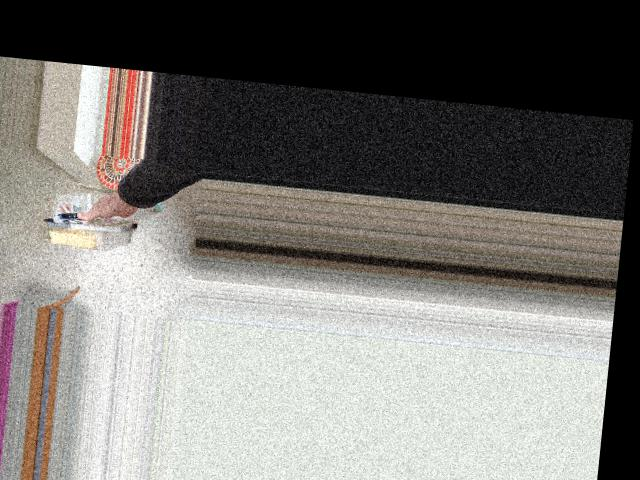cheese: (42, 158, 148, 261)
